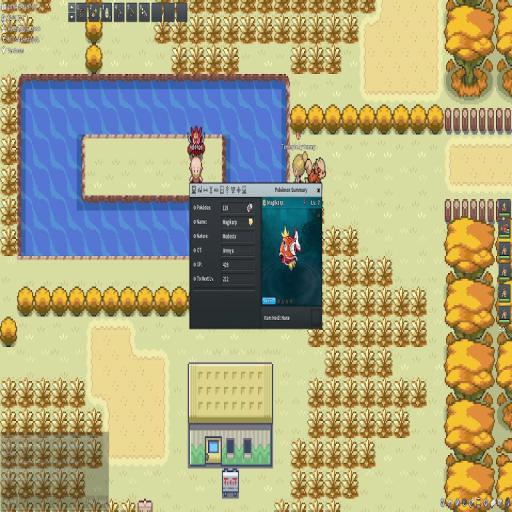SKIPANOUCE: (190, 183, 321, 329)
